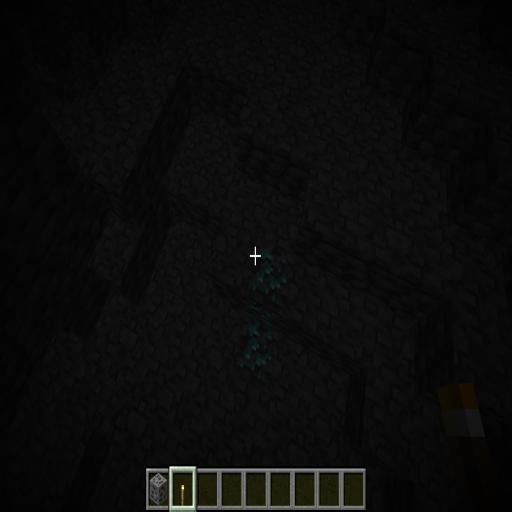diamond ore: (230, 227, 290, 399)
